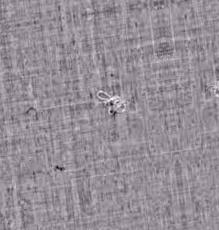snag: (93, 82, 136, 121)
